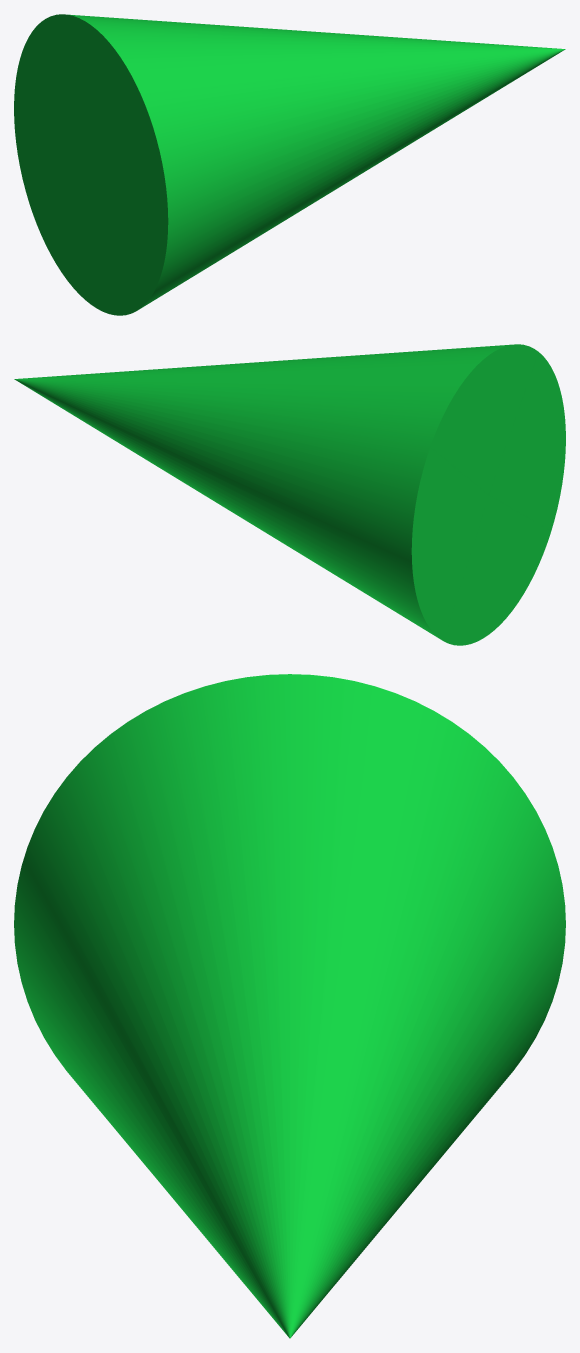
The model's file is fleche.fbx.
The picture shows the model from 3 angles, top to bottom: view 1: azimuth 30°, elevation 25°; view 2: azimuth 150°, elevation 25°; view 3: azimuth 270°, elevation 25°; orthographic projection. The views are drawn at different scales.
Parts seen in each view (by area): view 1: root; view 2: root; view 3: root.
Boxes of the visible parts, box(x1,y1,x2,y2) form: root: box(14, 14, 565, 315); root: box(14, 344, 565, 645); root: box(14, 674, 565, 1338).
Bounding box in the file's own units: 0.361 × 0.2031 × 0.2031.
1 material, 1 textured.
